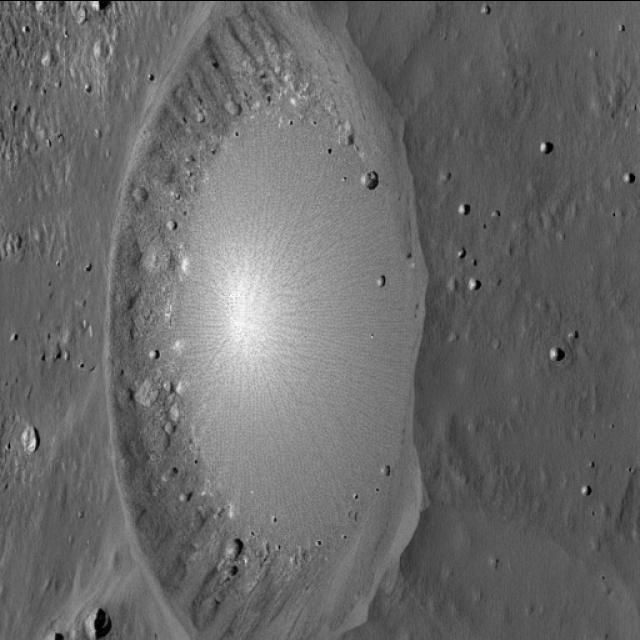crater: (105, 0, 424, 640)
